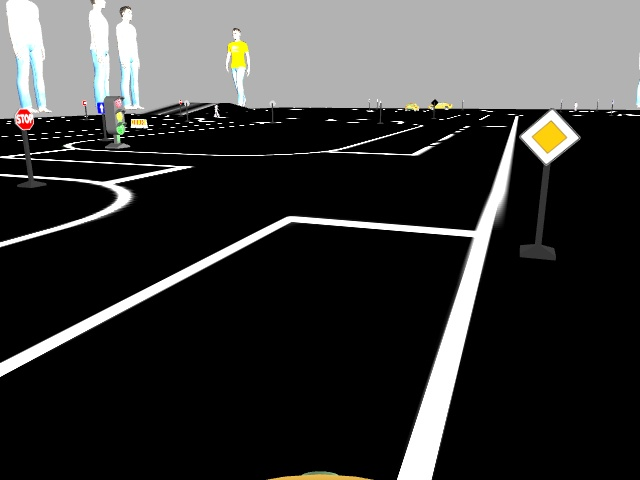ClosedRoadStand: (131, 118, 147, 130)
Priority: (524, 108, 576, 160)
Stop: (14, 111, 33, 127)
TrafficLight: (105, 94, 124, 135)
